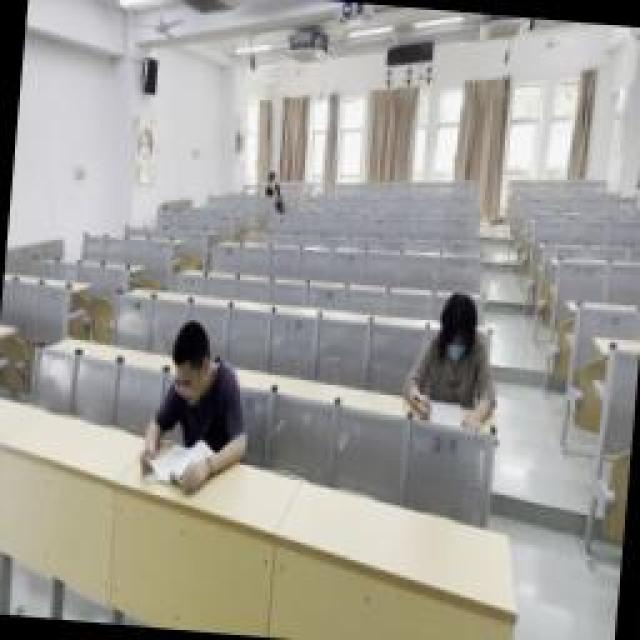study: (138, 322, 250, 498), (403, 290, 505, 418), (265, 170, 277, 192)
